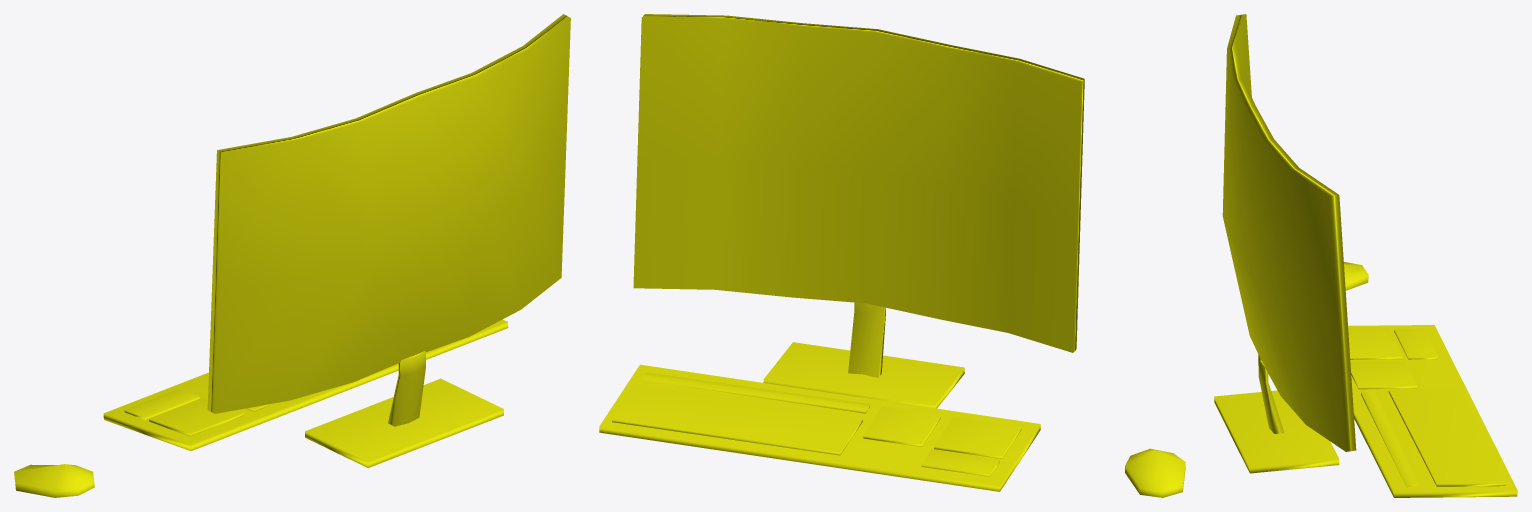
File: COMPU.fbx
The picture shows the model from 3 angles, left to right: view 1: azimuth 30°, elevation 25°; view 2: azimuth 150°, elevation 25°; view 3: azimuth 270°, elevation 25°; orthographic projection. The views are drawn at different scales.
Visible parts, largest first — view 1: COMPU; view 2: COMPU; view 3: COMPU.
Boxes of the visible parts, box(x1,y1,x2,y2) form: COMPU: box(14, 14, 570, 497); COMPU: box(599, 14, 1185, 497); COMPU: box(1214, 14, 1517, 497).
Bounding box in the file's own units: 1.46 × 0.8765 × 0.7283.
